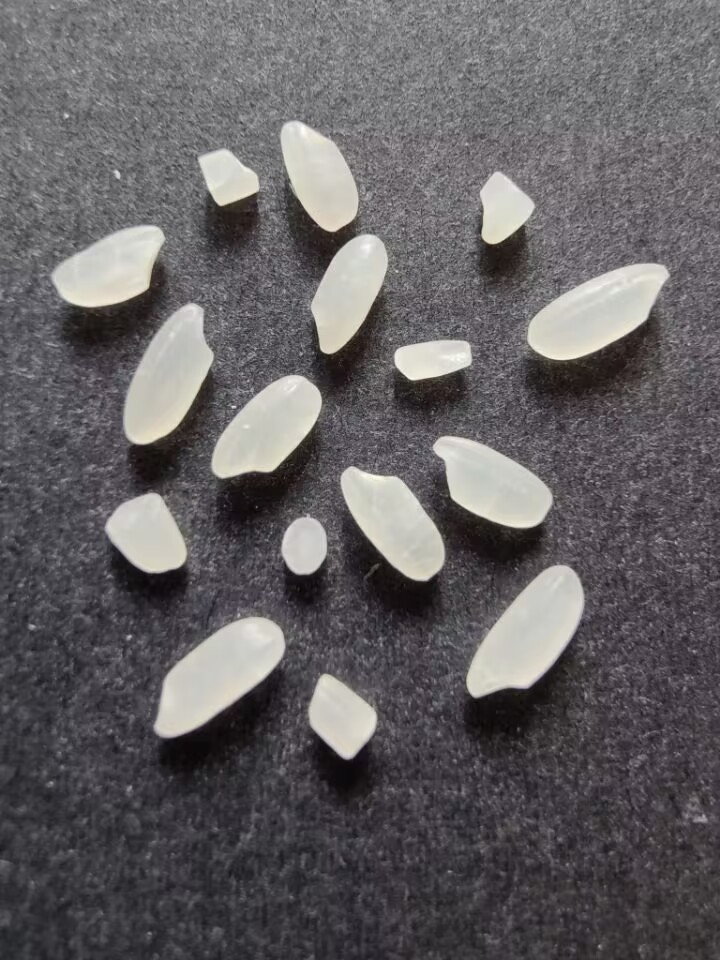broken: (98, 488, 187, 579), (301, 669, 378, 763), (469, 169, 538, 249), (385, 334, 481, 383), (194, 144, 265, 210), (274, 513, 331, 578)
rice: (148, 614, 286, 745), (464, 560, 585, 701), (522, 259, 673, 363), (119, 300, 218, 447), (337, 464, 450, 585), (429, 435, 558, 535), (207, 373, 325, 478), (306, 229, 389, 357), (48, 220, 168, 308), (276, 119, 364, 237)
